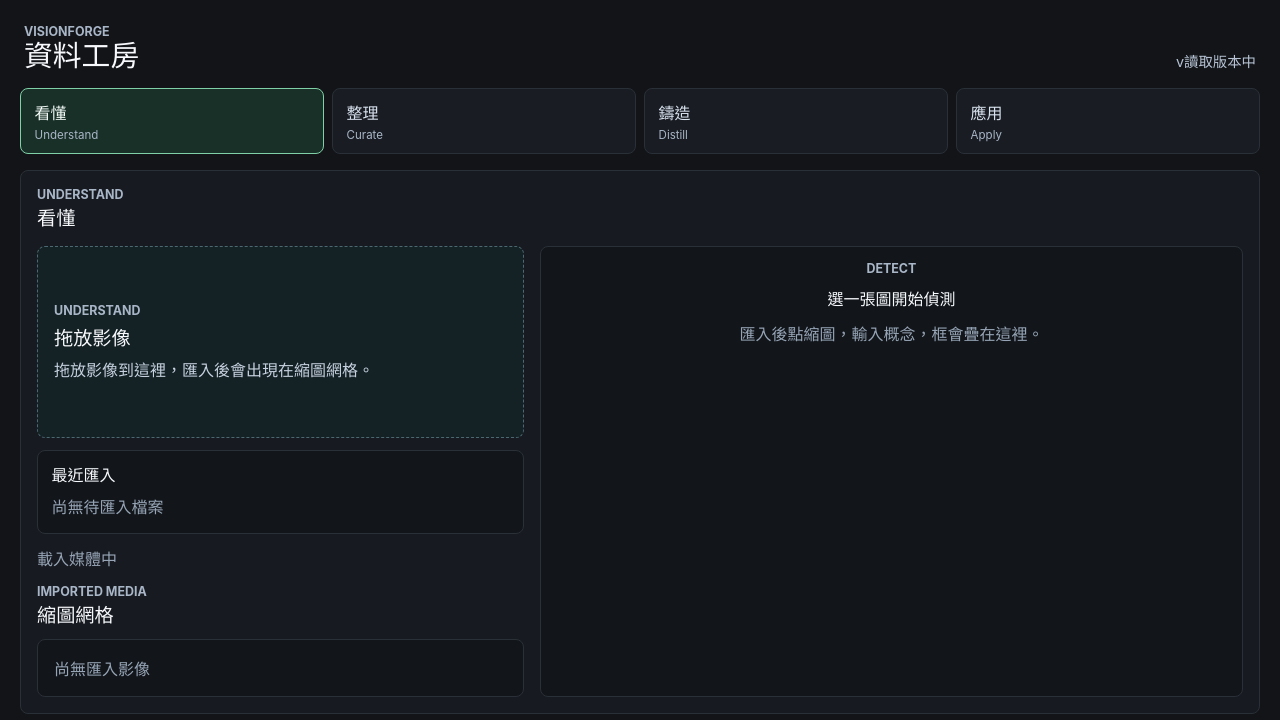
Scenario: App › switches to construction panels for later stations
Click the button "鑄造 Distill": (675, 113) [644, 88, 948, 154]
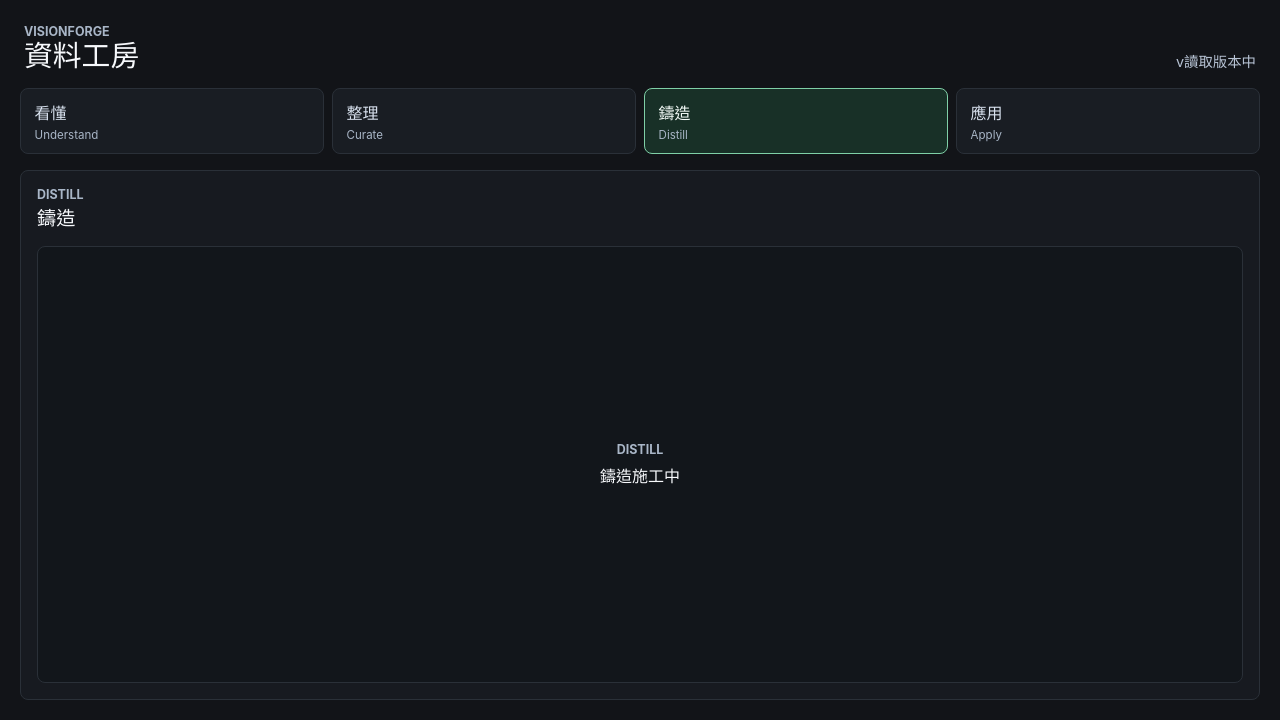
expect the heading "鑄造施工中" is shown: met, box [600, 466, 680, 488]
Click the button "應用 Apply": (987, 113) [956, 88, 1260, 154]
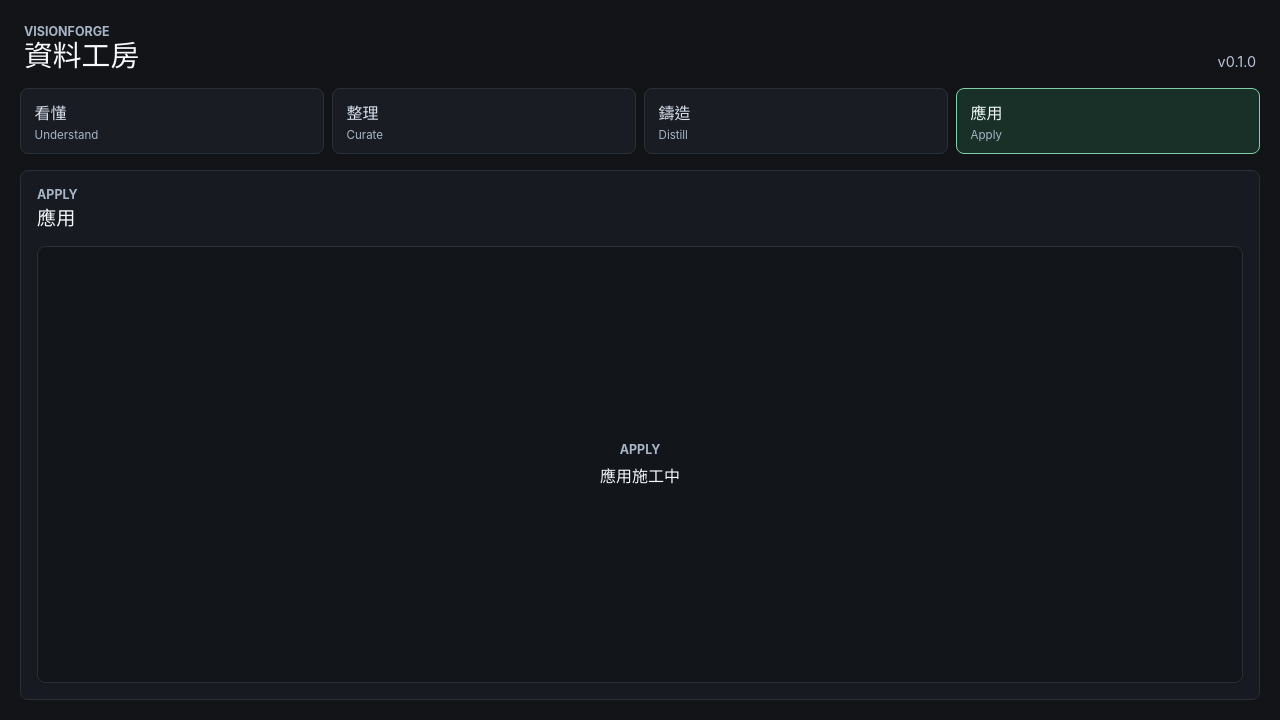
expect the heading "應用施工中" is shown: met, box [600, 466, 680, 488]
